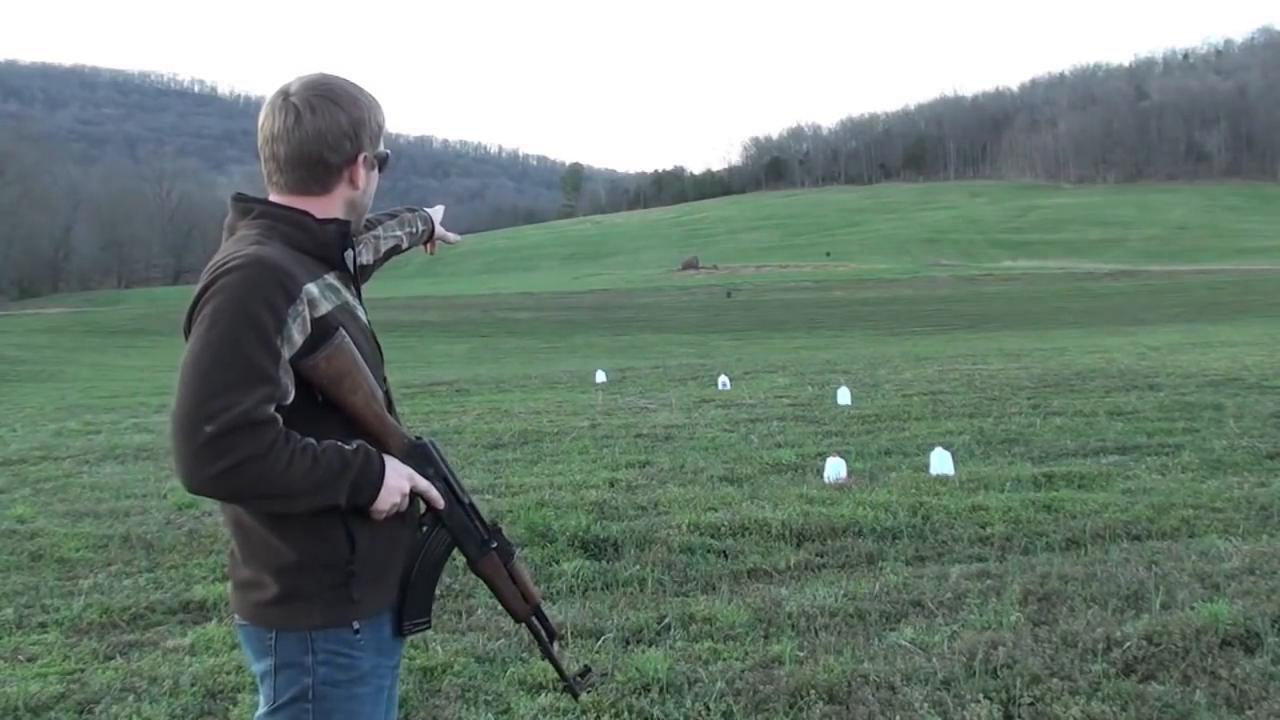AK47 Rifle: (299, 327, 589, 699)
